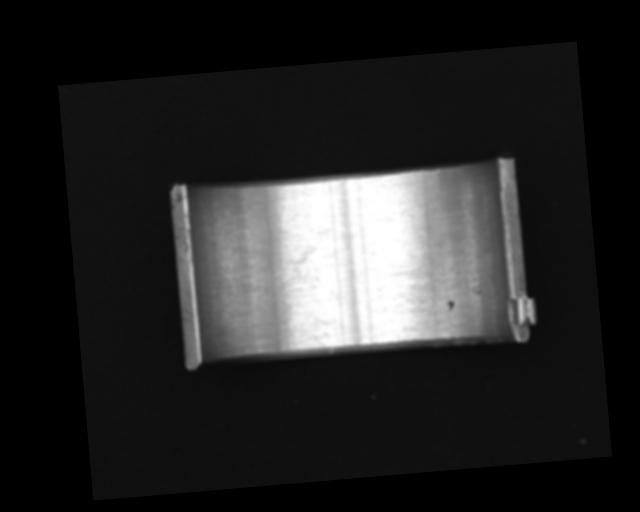blot: (273, 243, 321, 293)
bruise: (445, 299, 456, 313)
nick: (278, 188, 295, 227)
